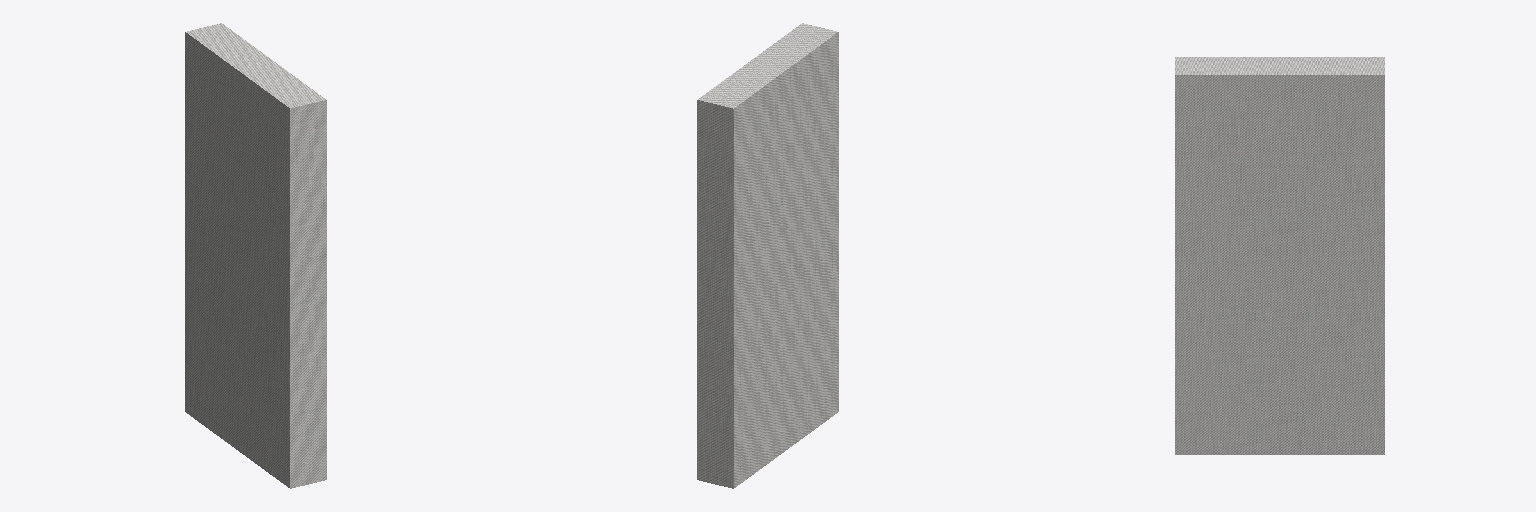
The picture shows the model from 3 angles: view 1: azimuth 30°, elevation 25°; view 2: azimuth 150°, elevation 25°; view 3: azimuth 270°, elevation 25°; orthographic projection.
Visible parts, largest first — view 1: Cube; view 2: Cube; view 3: Cube.
Boxes of the visible parts, box(x1,y1,x2,y2) form: Cube: box(185, 23, 326, 488); Cube: box(697, 23, 838, 488); Cube: box(1175, 57, 1384, 454).
Bounding box in the file's own units: 0.2 × 2 × 1.
Materials: 1 (1 with a texture image).